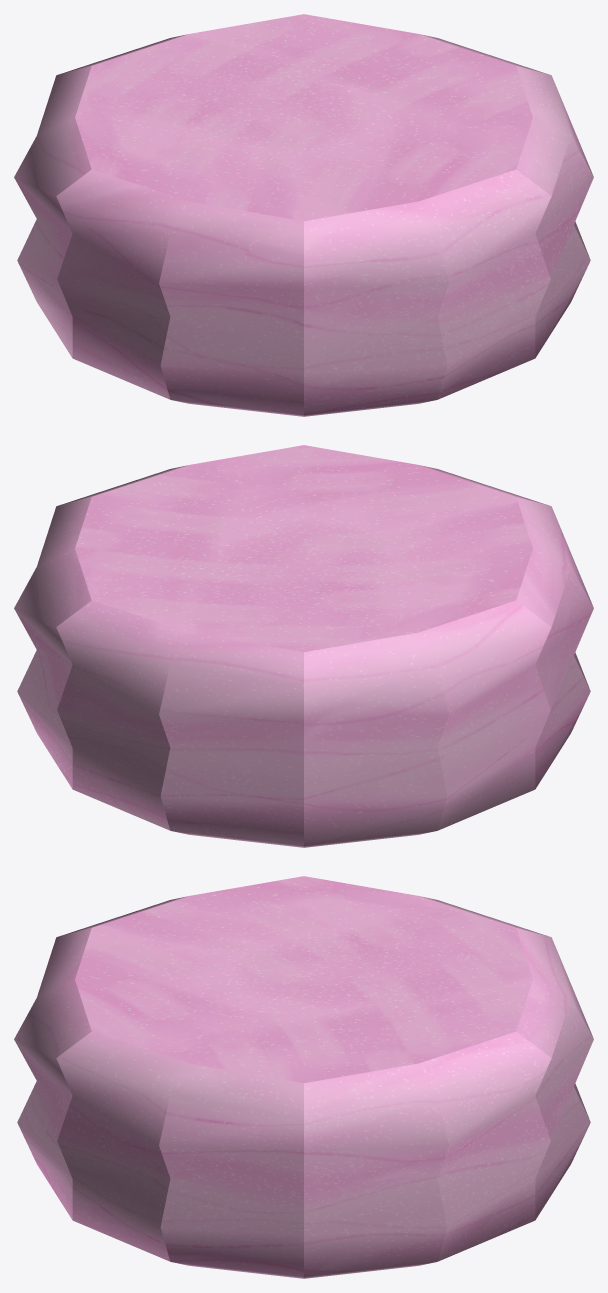
File: SugarAlgodon.fbx
The picture shows the model from 3 angles, top to bottom: view 1: azimuth 30°, elevation 25°; view 2: azimuth 150°, elevation 25°; view 3: azimuth 270°, elevation 25°; orthographic projection.
Parts seen in each view (by area): view 1: pCylinder10; view 2: pCylinder10; view 3: pCylinder10.
Part boxes in pixels (left/top/right/bottom): pCylinder10: left=14, top=14, right=593, bottom=416; pCylinder10: left=14, top=445, right=593, bottom=847; pCylinder10: left=14, top=876, right=593, bottom=1278.
Bounding box in the file's own units: 15.59 × 6.09 × 15.81.
Materials: 1 (1 with a texture image).
